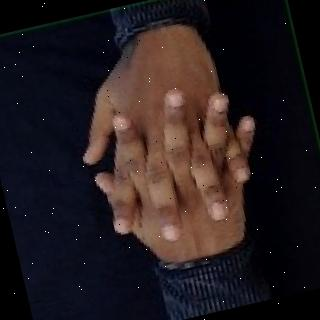W: (54, 13, 294, 272)
